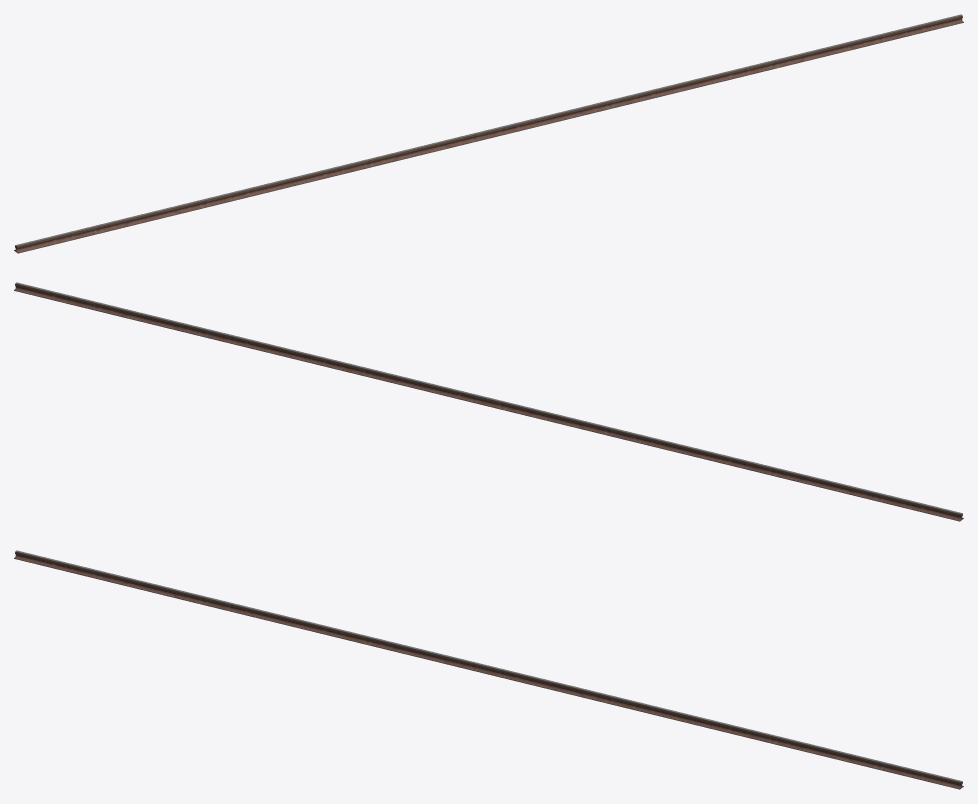
File: Crane01_Rail4.FBX
The picture shows the model from 3 angles, top to bottom: view 1: azimuth 30°, elevation 25°; view 2: azimuth 150°, elevation 25°; view 3: azimuth 330°, elevation 25°; orthographic projection.
Visible parts, largest first — view 1: CraneRail4; view 2: CraneRail4; view 3: CraneRail4.
Boxes of the visible parts, <box> form: CraneRail4: <box>14,14,963,253</box>; CraneRail4: <box>14,282,963,521</box>; CraneRail4: <box>14,550,963,789</box>.
Bounding box in the file's own units: 977 × 6.39 × 7.3.
